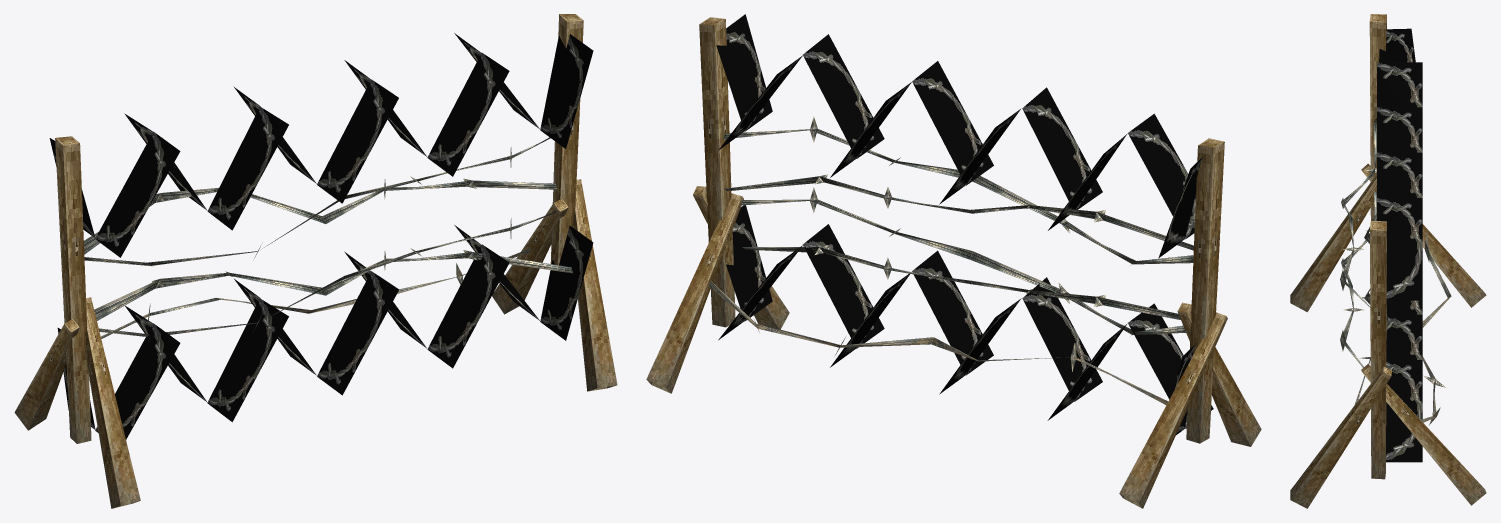
The model's file is C1SMPOWWIRE1.bgf.obj.
The picture shows the model from 3 angles, left to right: view 1: azimuth 30°, elevation 25°; view 2: azimuth 150°, elevation 25°; view 3: azimuth 270°, elevation 25°; orthographic projection. The views are drawn at different scales.
Visible parts, largest first — view 1: FRAG03, FRAG04, FRAG05, FRAG01, FRAG02, FRAG06; view 2: FRAG03, FRAG01, FRAG04, FRAG05, FRAG02, FRAG06; view 3: FRAG01, FRAG03, FRAG06, FRAG05, FRAG04, FRAG02.
Part boxes in pixels (box(x1,y1,x2,y2)): FRAG03: box(49, 113, 325, 508); FRAG04: box(14, 276, 343, 439); FRAG05: box(309, 178, 572, 395); FRAG01: box(344, 14, 593, 265); FRAG02: box(147, 79, 472, 265); FRAG06: box(492, 179, 617, 391); FRAG03: box(971, 113, 1261, 446); FRAG01: box(699, 14, 911, 327); FRAG04: box(931, 251, 1227, 508); FRAG05: box(709, 174, 993, 375); FRAG02: box(819, 61, 1135, 263); FRAG06: box(646, 186, 789, 393); FRAG01: box(1340, 152, 1422, 479); FRAG03: box(1290, 14, 1422, 312); FRAG06: box(1290, 364, 1486, 508); FRAG05: box(1340, 281, 1445, 462); FRAG04: box(1341, 163, 1486, 327); FRAG02: box(1341, 107, 1422, 251).
Size of the model in its own units: 7.44 by 4.6 by 2.85.
13 materials, 13 textured.
